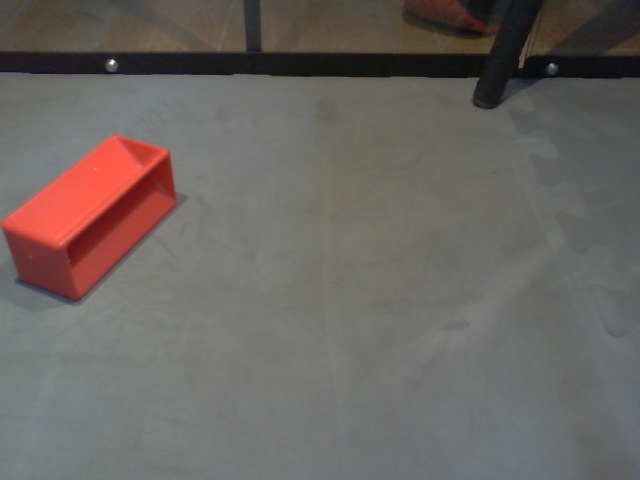RedSample: (1, 131, 180, 302)
